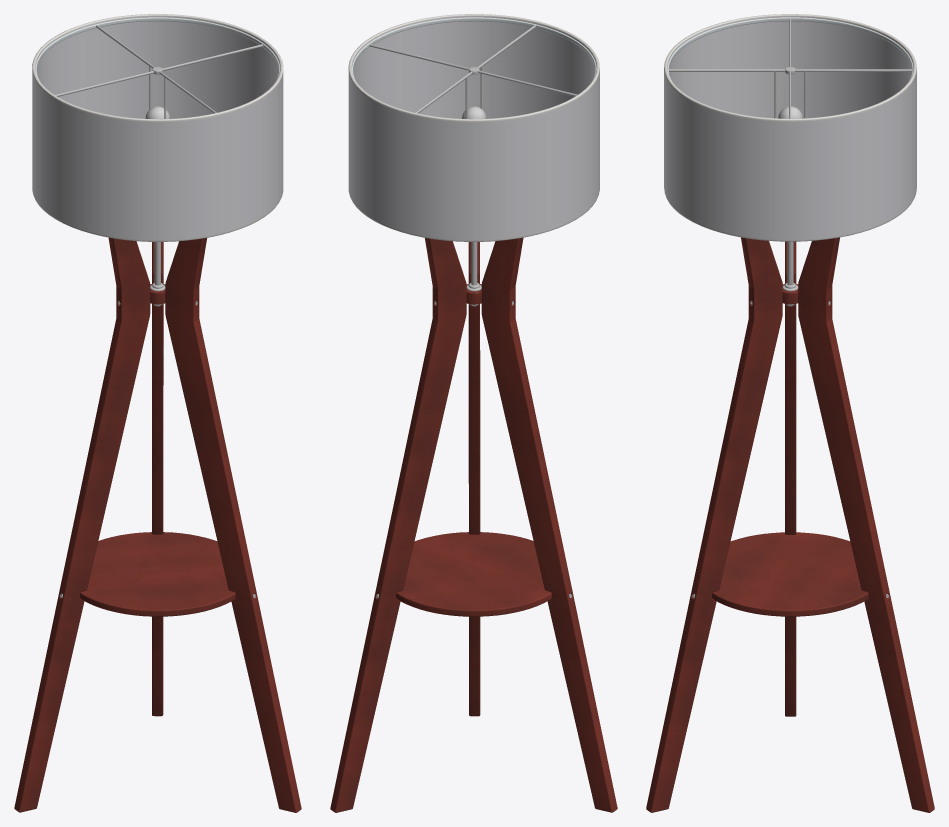
File: abo-B073P2CP5G.glb
The picture shows the model from 3 angles, left to right: view 1: azimuth 30°, elevation 25°; view 2: azimuth 150°, elevation 25°; view 3: azimuth 270°, elevation 25°; orthographic projection.
Size of the model in its own units: 0.542 by 1.47 by 0.542.
Materials: 1 (1 with a texture image).
